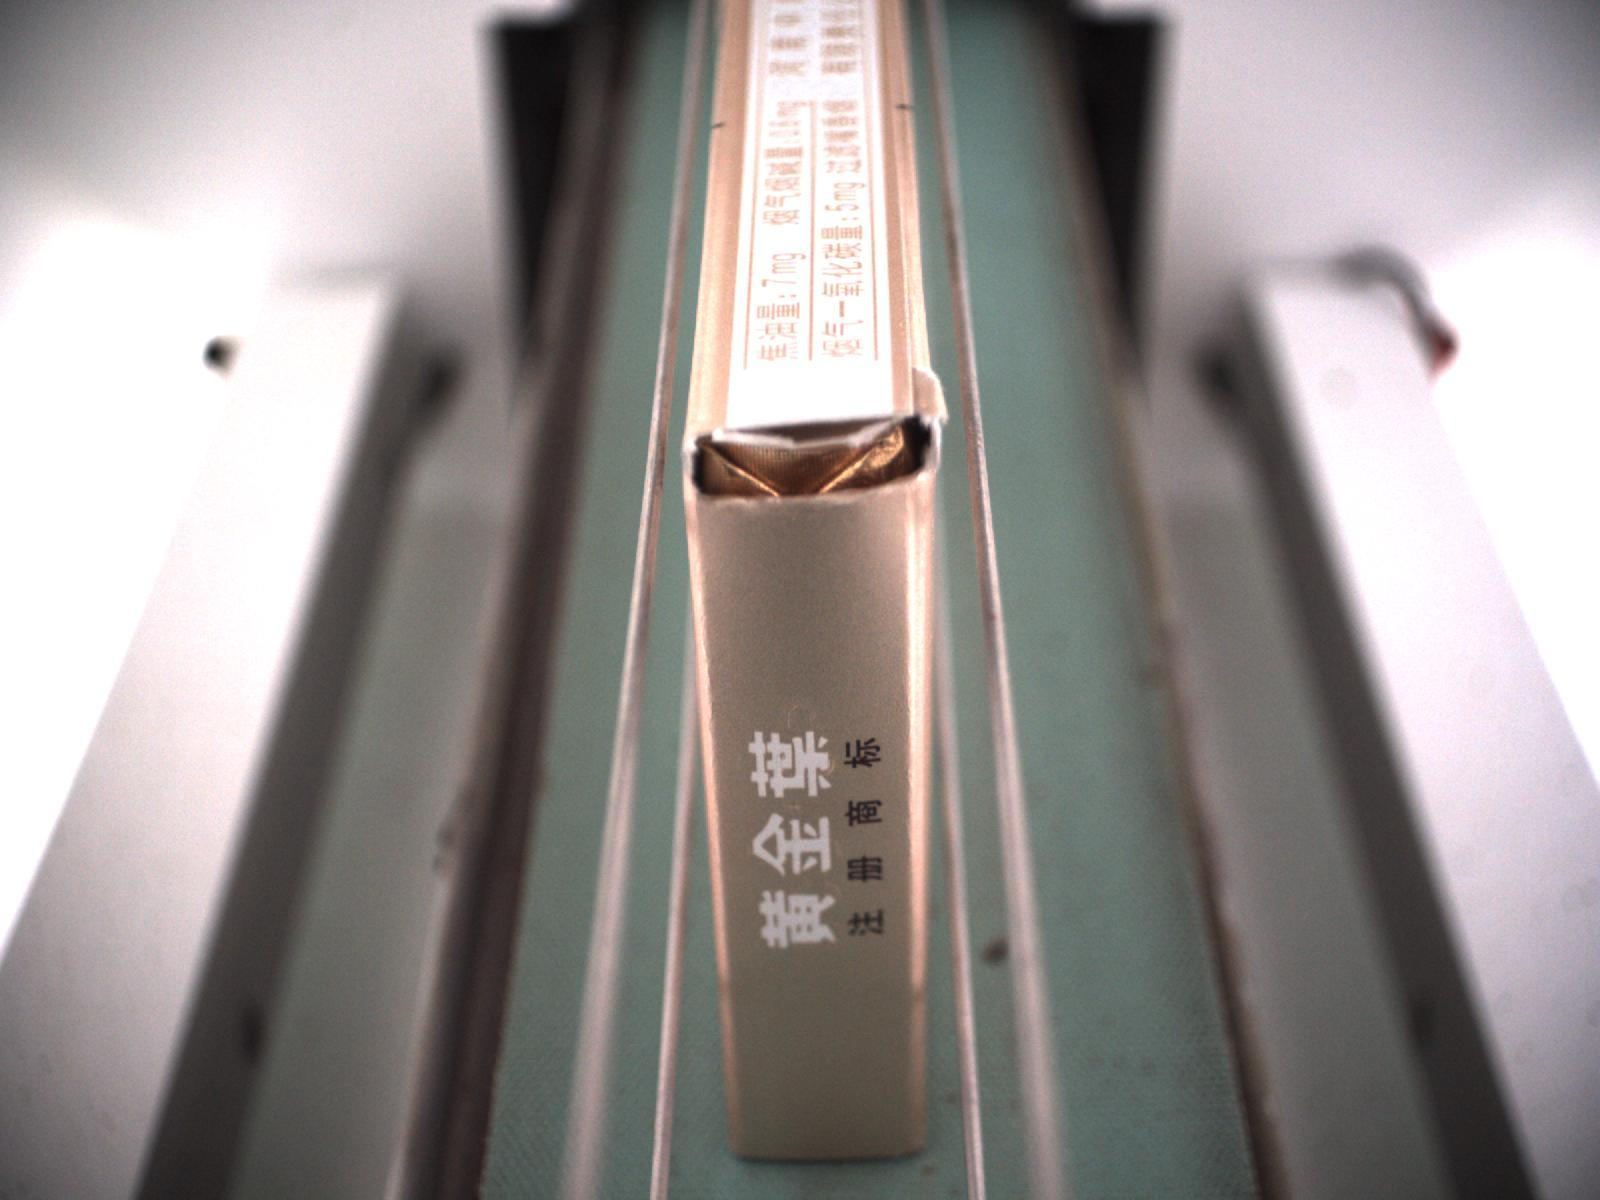headOpen_upper: (681, 393, 943, 515)
